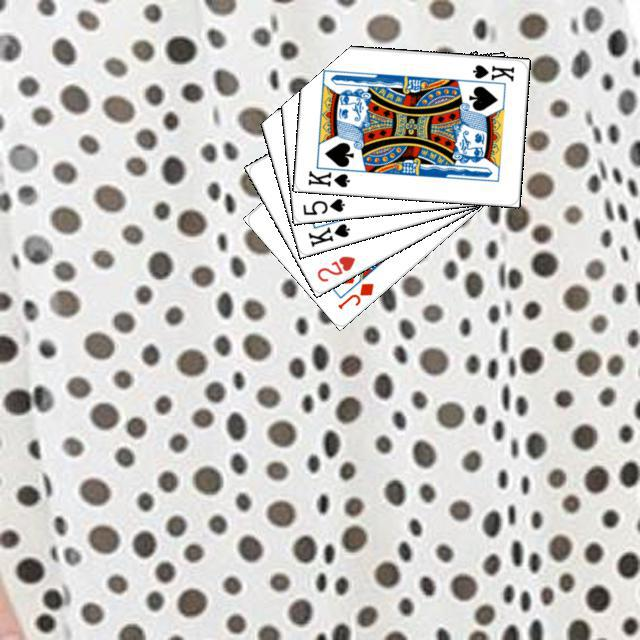2h: (312, 251, 357, 284)
5s: (298, 194, 346, 217)
Jd: (332, 278, 376, 311)
Ks: (303, 218, 352, 248), (463, 60, 516, 86), (303, 166, 351, 189)
